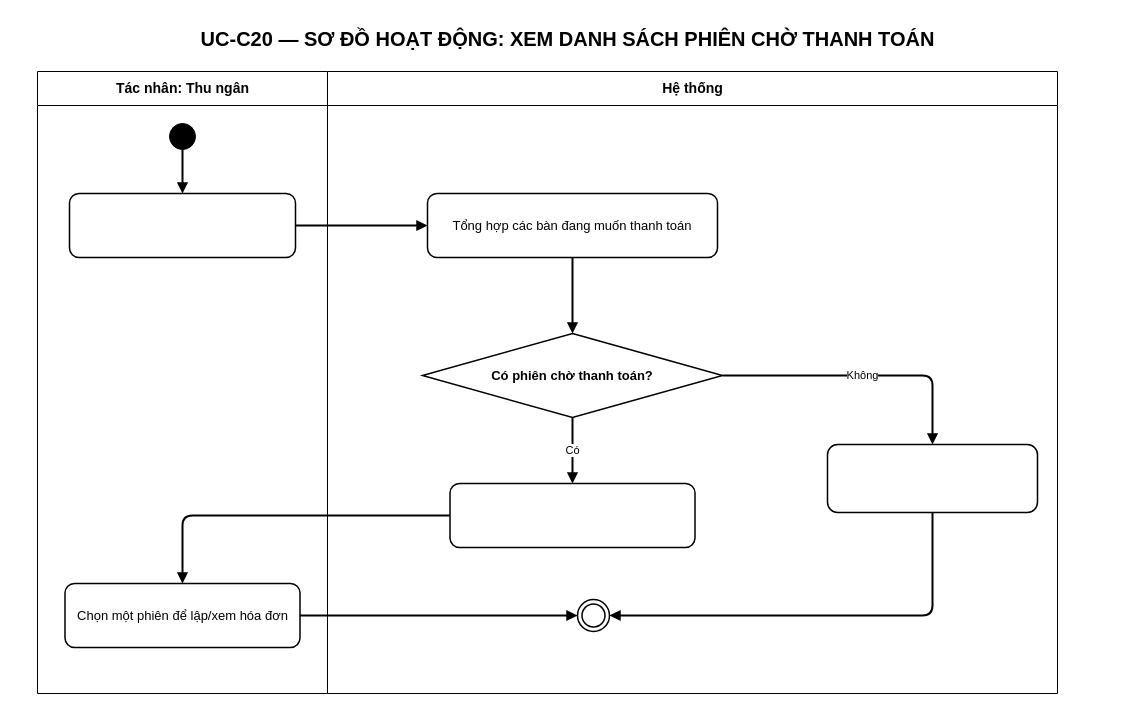
This 1134x711 diagram has some shape labels left out. The centre of each missing label's shape, as x and y in pixels:
Hiển thị bàn, thời gian yêu cầu và tổng tiền dự kiến: point 572,515
Hiển thị danh sách trống: point 932,478
Mở màn hình thu ngân: point 182,225
